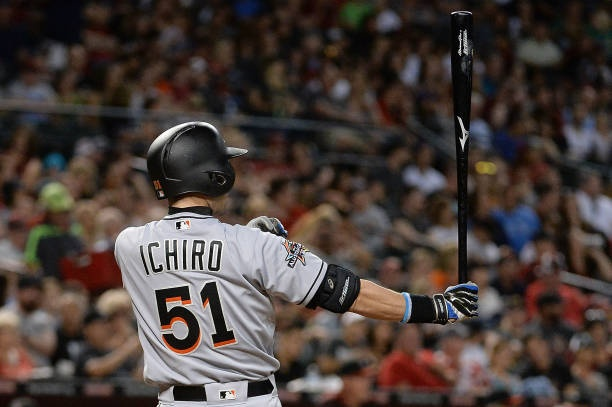bita: (451, 13, 477, 300)
